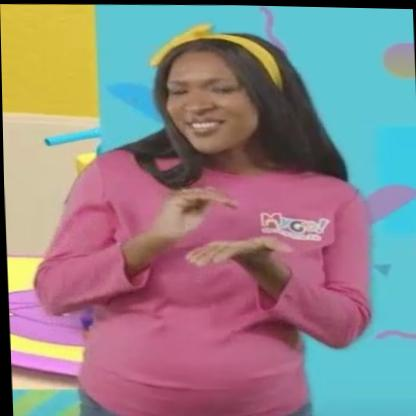ExcuseMe: (143, 173, 294, 283)
